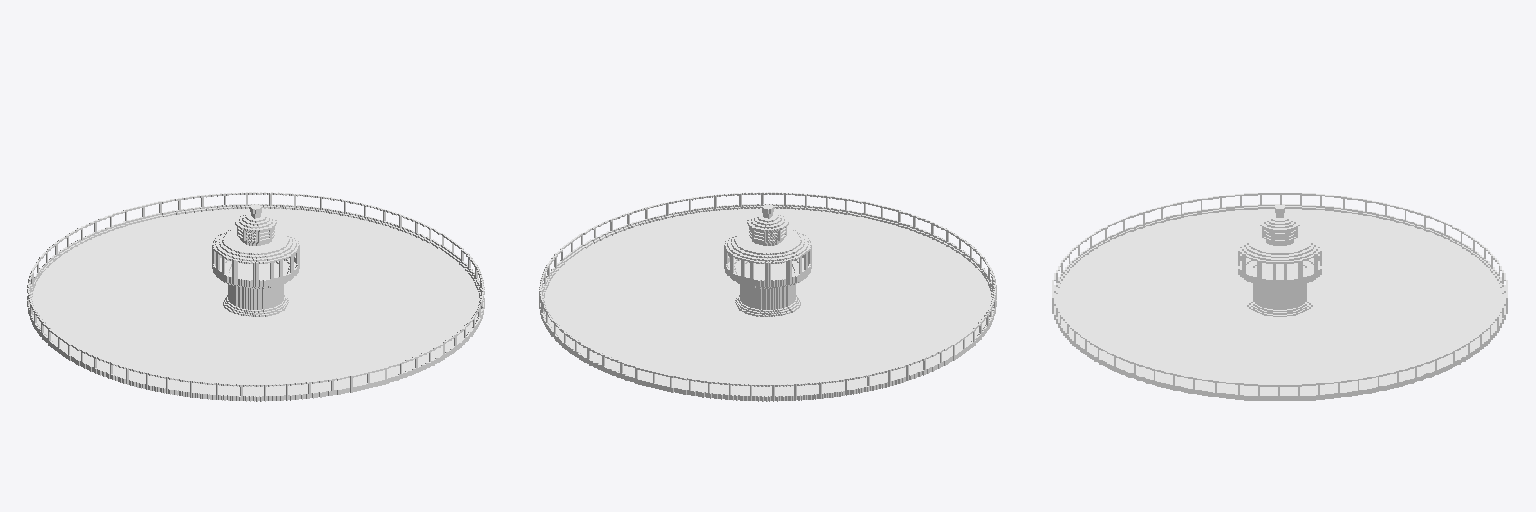
Rendered from Prison_Arena.obj.
3 renders of one model, left to right at view 1: azimuth 30°, elevation 25°; view 2: azimuth 150°, elevation 25°; view 3: azimuth 270°, elevation 25°, orthographic.
Visible parts, largest first — view 1: object 1; view 2: object 1; view 3: object 1.
Boxes of the visible parts, <box> form: object 1: <box>27,192,484,401</box>; object 1: <box>539,192,996,401</box>; object 1: <box>1052,193,1507,400</box>.
Bounding box in the file's own units: 25.2 × 6 × 25.2.